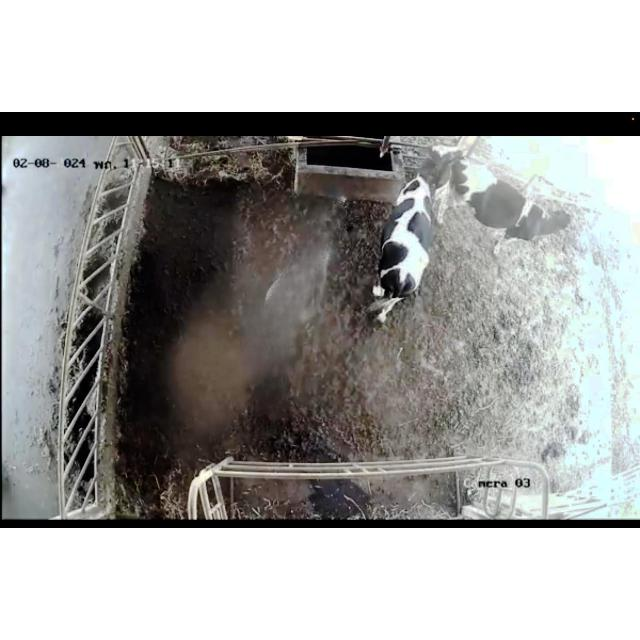propping: (406, 138, 490, 192)
